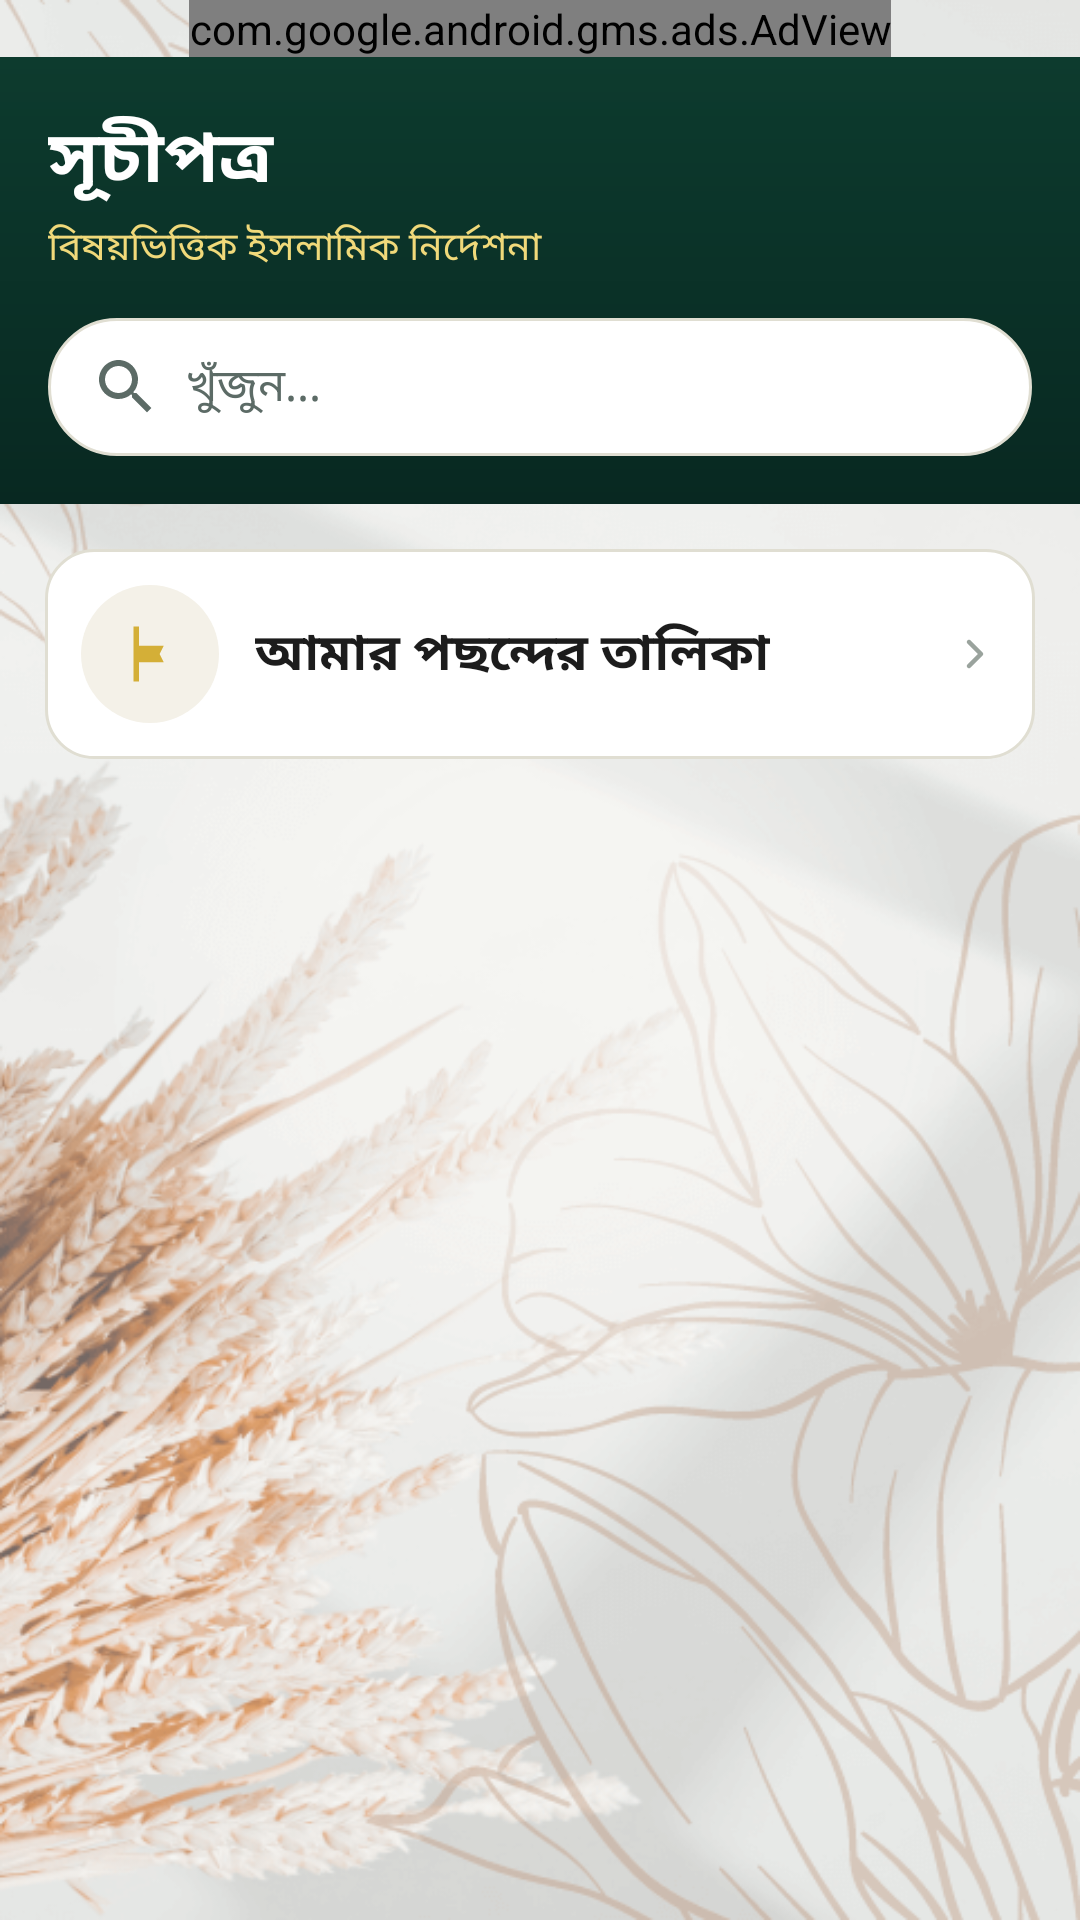

Screen size 1080w x 1920h. Icon name, then its center in pixels as (x=x, y=y):
chevron right: (x=975, y=654)
favorites flag: (x=148, y=654)
